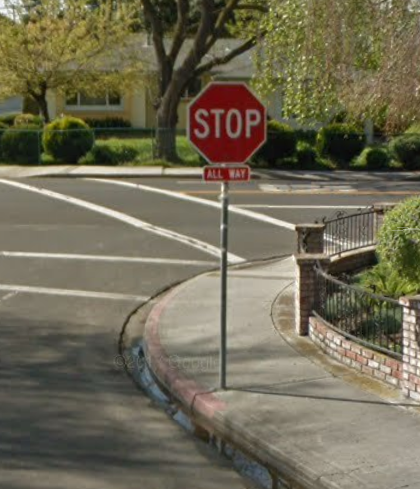stop_sign: (187, 83, 267, 163)
